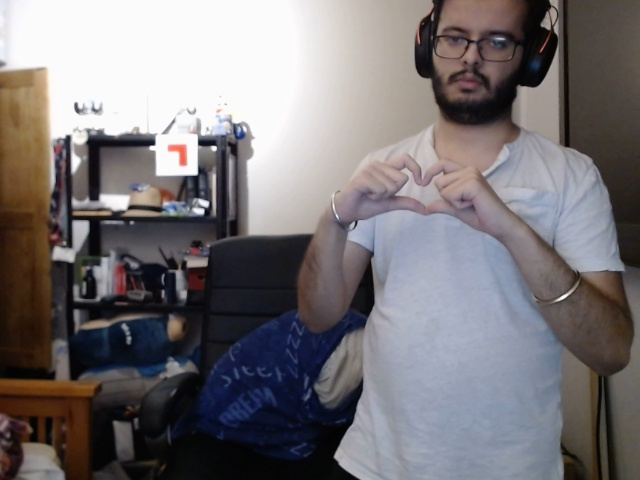Heart: (346, 149, 509, 237)
